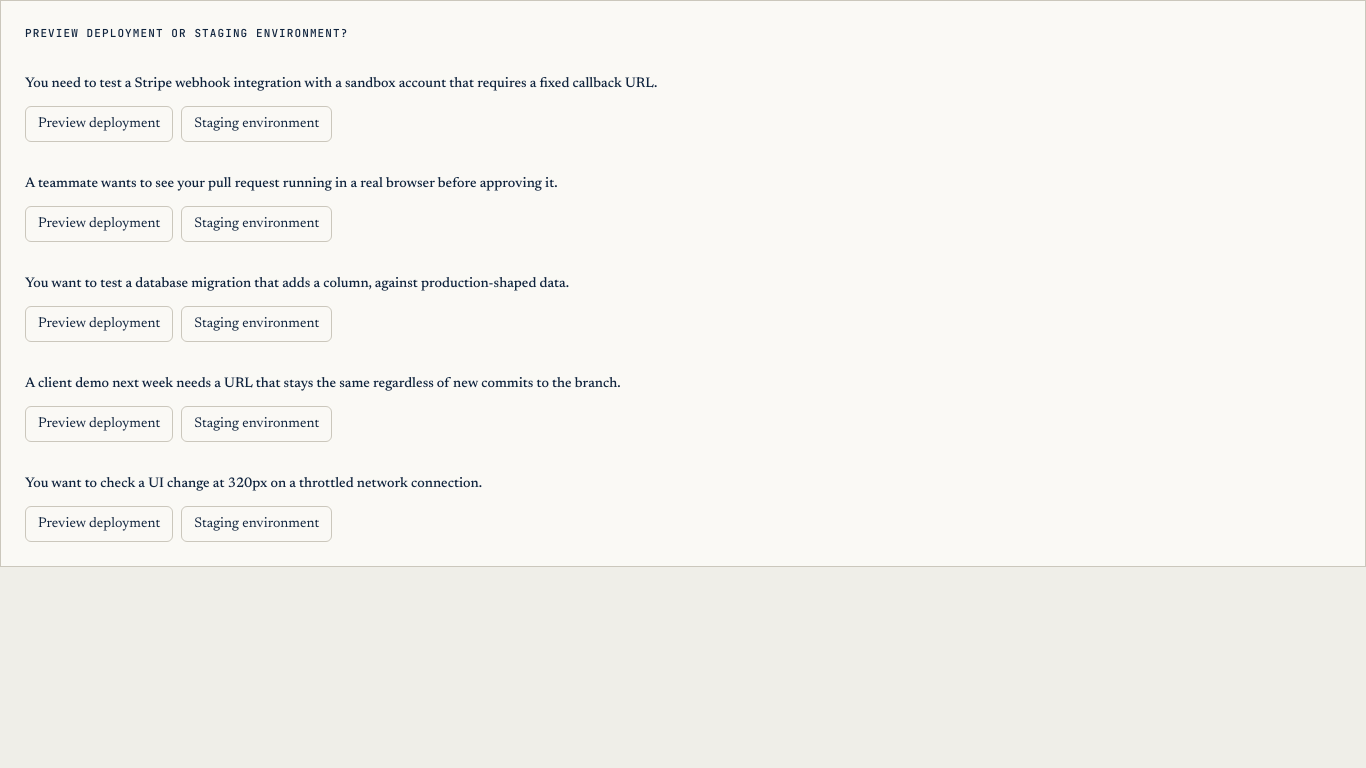
Test: PreviewOrStaging › correct answer shows green verdict and increments score
Click the 1st radio button labelled "Staging environment" at (257, 124), box [181,106,332,142]
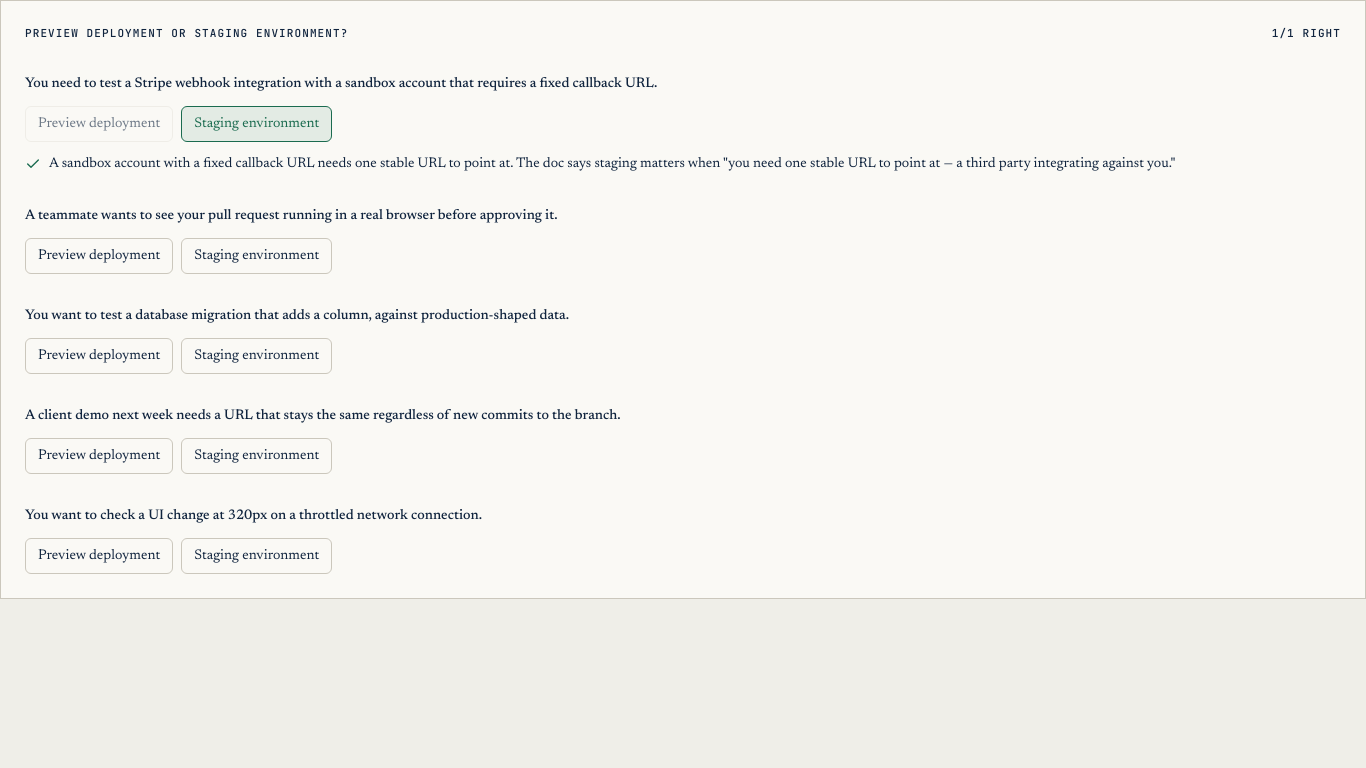
Now the text "1/1 right" is shown, box [1272,25,1341,42]
